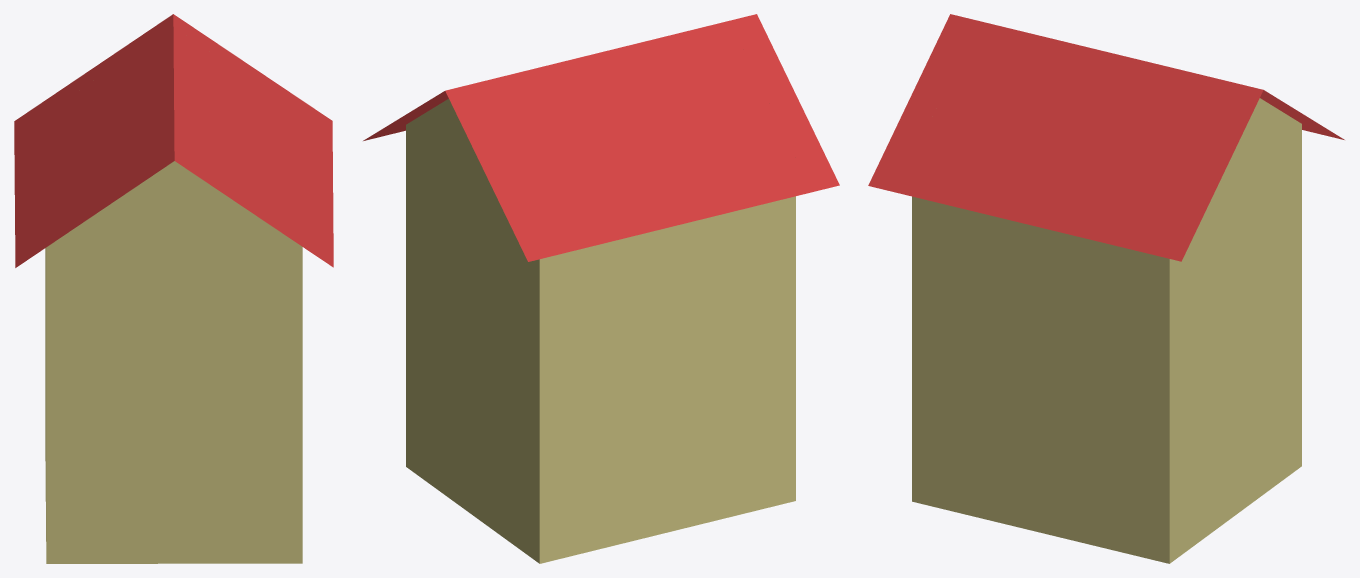
The picture shows the model from 3 angles, left to right: view 1: azimuth 30°, elevation 25°; view 2: azimuth 150°, elevation 25°; view 3: azimuth 270°, elevation 25°; orthographic projection. The views are drawn at different scales.
Visible parts, largest first — view 1: group_5, group_3, group_4; view 2: group_5, group_3, group_4; view 3: group_5, group_3, group_4.
Boxes of the visible parts, x1,y1,x2,y2 form: group_5: (45,161,302,563); group_3: (14,14,333,266); group_4: (14,14,333,267); group_5: (406,98,795,563); group_3: (440,21,795,254); group_4: (363,14,839,261); group_5: (912,98,1301,563); group_3: (869,14,1344,261); group_4: (868,14,1263,205).
Bounding box in the file's own units: 14.48 × 14.83 × 14.8.
